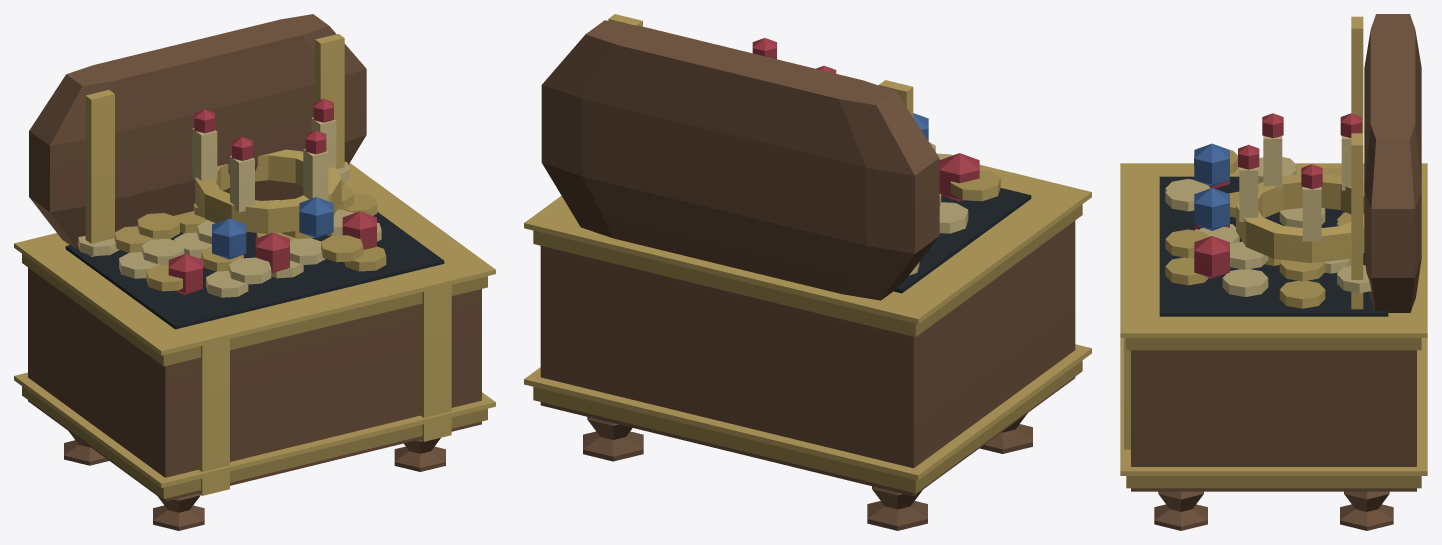
Rendered from palace_chest_treasure.glb.
3 renders of one model, left to right at view 1: azimuth 30°, elevation 25°; view 2: azimuth 150°, elevation 25°; view 3: azimuth 270°, elevation 25°, orthographic. The views are drawn at different scales.
Visible parts, largest first — view 1: palace_chest_treasure; view 2: palace_chest_treasure; view 3: palace_chest_treasure.
Boxes of the visible parts, x1,y1,x2,y2 form: palace_chest_treasure: [14, 14, 495, 530]; palace_chest_treasure: [524, 14, 1091, 530]; palace_chest_treasure: [1120, 14, 1427, 530].
Size of the model in its own units: 0.845 by 0.88 by 0.645.
